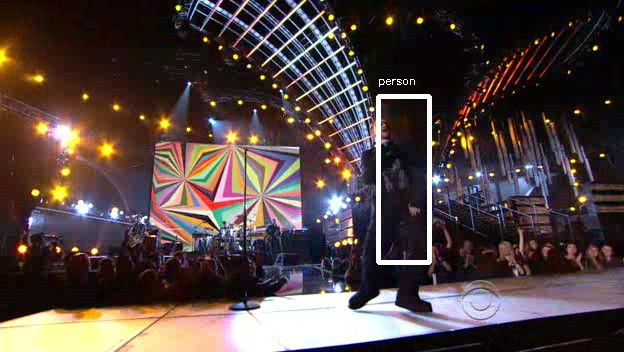person: (362, 117, 430, 230), (359, 117, 427, 230), (365, 117, 433, 230), (362, 114, 430, 227), (362, 120, 430, 233)
target_negative: (108, 238, 443, 288), (307, 213, 519, 260), (290, 158, 328, 250), (455, 269, 568, 295), (140, 269, 193, 322), (562, 226, 601, 273)
